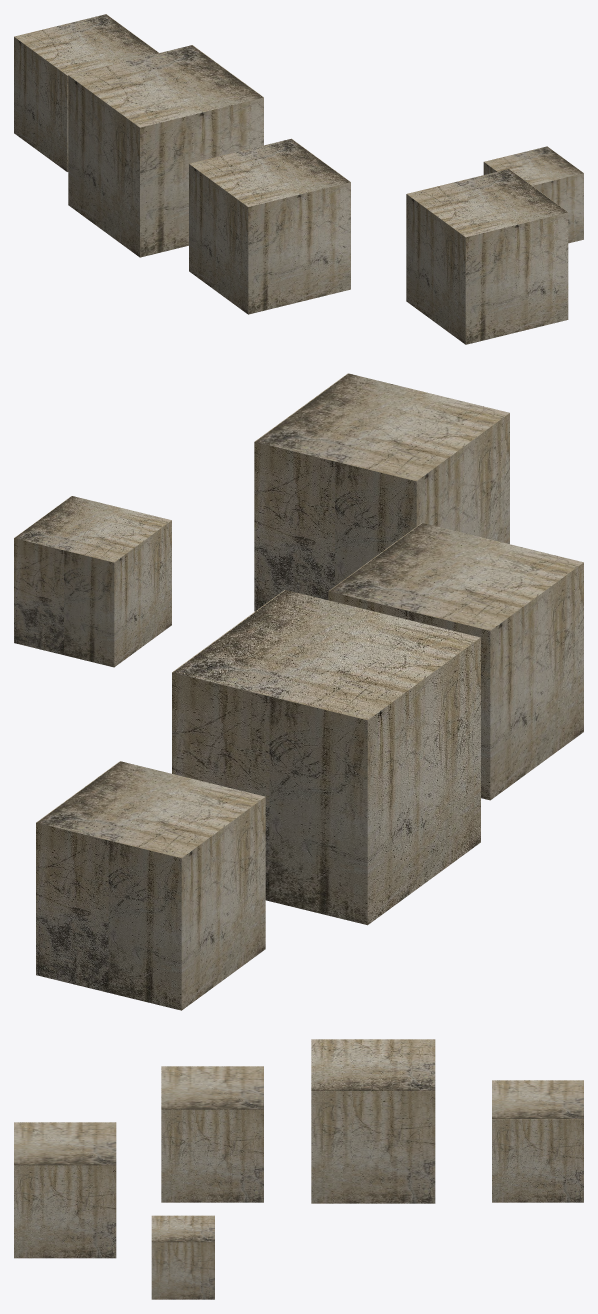
The model's file is Maison_rue.fbx.
3 renders of one model, top to bottom at view 1: azimuth 30°, elevation 25°; view 2: azimuth 150°, elevation 25°; view 3: azimuth 270°, elevation 25°, orthographic. The views are drawn at different scales.
Visible parts, largest first — view 1: Maison rue; view 2: Maison rue; view 3: Maison rue.
Boxes of the visible parts, x1,y1,x2,y2 form: Maison rue: [14, 14, 583, 344]; Maison rue: [14, 373, 583, 1010]; Maison rue: [14, 1039, 583, 1299].
Size of the model in its own units: 2927 by 1035 by 4758.
